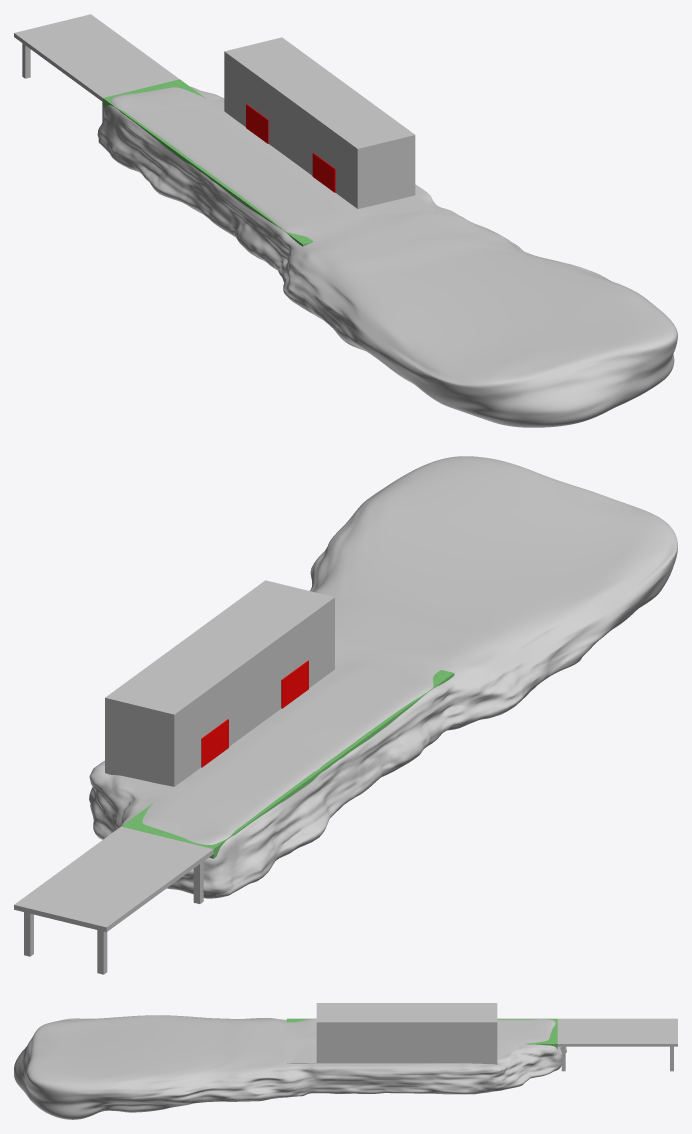
File: Island Proxy Updated.fbx
3 renders of one model, top to bottom at view 1: azimuth 30°, elevation 25°; view 2: azimuth 150°, elevation 25°; view 3: azimuth 270°, elevation 25°, orthographic. The views are drawn at different scales.
Parts seen in each view (by area): view 1: Dirt_Patch.001, Warehouse_Graybox, Boardwalk, Grass, Dirt_Patch__1_; view 2: Dirt_Patch.001, Warehouse_Graybox, Boardwalk, Grass, Warehouse_Door, Warehouse_Door__1_; view 3: Dirt_Patch.001, Warehouse_Graybox, Boardwalk, Dirt_Patch__1_, Grass.
Boxes of the visible parts, left/top/right/bottom form: Dirt_Patch.001: left=97, top=86, right=677, bottom=427; Warehouse_Graybox: left=224, top=37, right=415, bottom=208; Boardwalk: left=14, top=14, right=179, bottom=121; Grass: left=103, top=79, right=313, bottom=246; Dirt_Patch__1_: left=376, top=195, right=437, bottom=214; Dirt_Patch.001: left=89, top=456, right=677, bottom=898; Warehouse_Graybox: left=105, top=580, right=334, bottom=786; Boardwalk: left=14, top=826, right=213, bottom=974; Grass: left=121, top=670, right=454, bottom=858; Warehouse_Door: left=201, top=719, right=228, bottom=767; Warehouse_Door__1_: left=281, top=660, right=308, bottom=708; Dirt_Patch.001: left=14, top=1015, right=566, bottom=1119; Warehouse_Graybox: left=316, top=1003, right=497, bottom=1062; Boardwalk: left=557, top=1018, right=677, bottom=1071; Dirt_Patch__1_: left=286, top=1047, right=497, bottom=1064; Grass: left=286, top=1018, right=557, bottom=1049.
Size of the model in its own units: 6352 by 3368 by 22060.
